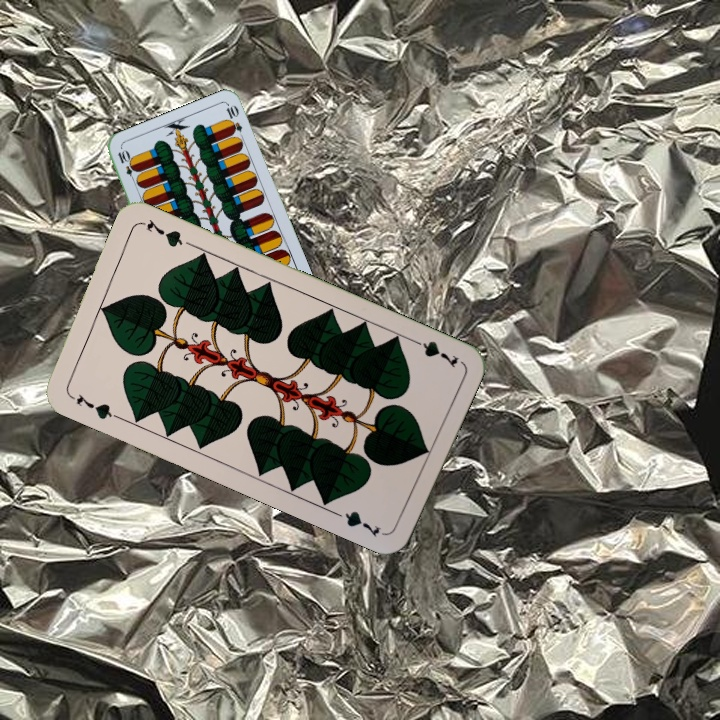E10: (114, 146, 139, 185)
G7: (406, 334, 461, 371), (65, 389, 121, 422)
